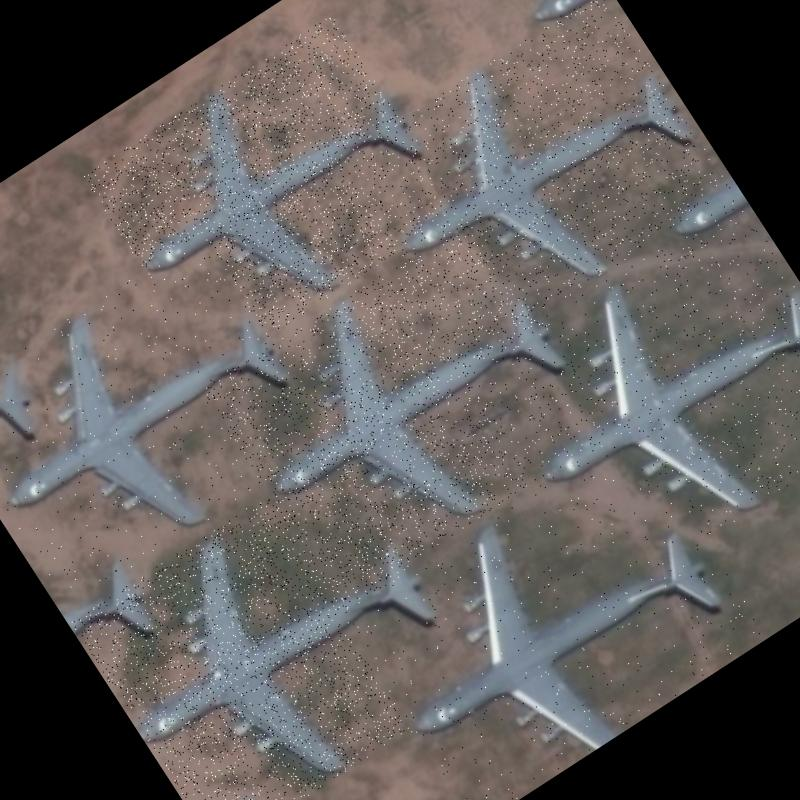A4: (202, 208, 622, 606), (338, 426, 770, 800), (70, 445, 492, 800), (338, 0, 732, 361), (464, 194, 800, 602), (82, 14, 460, 374), (0, 232, 334, 608)
